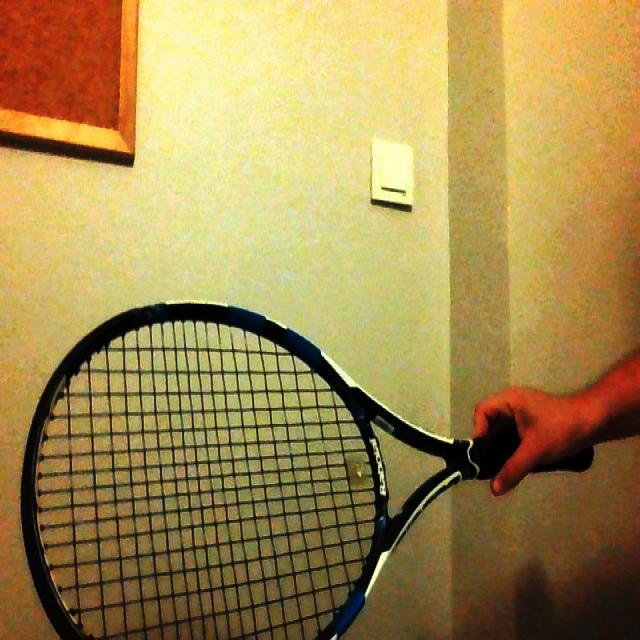TennisRacket: (26, 297, 593, 640)
